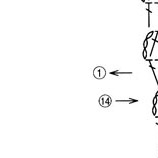chain: (153, 120, 158, 128)
enseble_chain: (140, 0, 158, 30), (139, 32, 158, 59), (108, 66, 135, 82), (114, 93, 140, 109), (90, 63, 109, 82), (149, 91, 158, 118), (97, 93, 112, 109)
fan: (139, 0, 157, 29)
